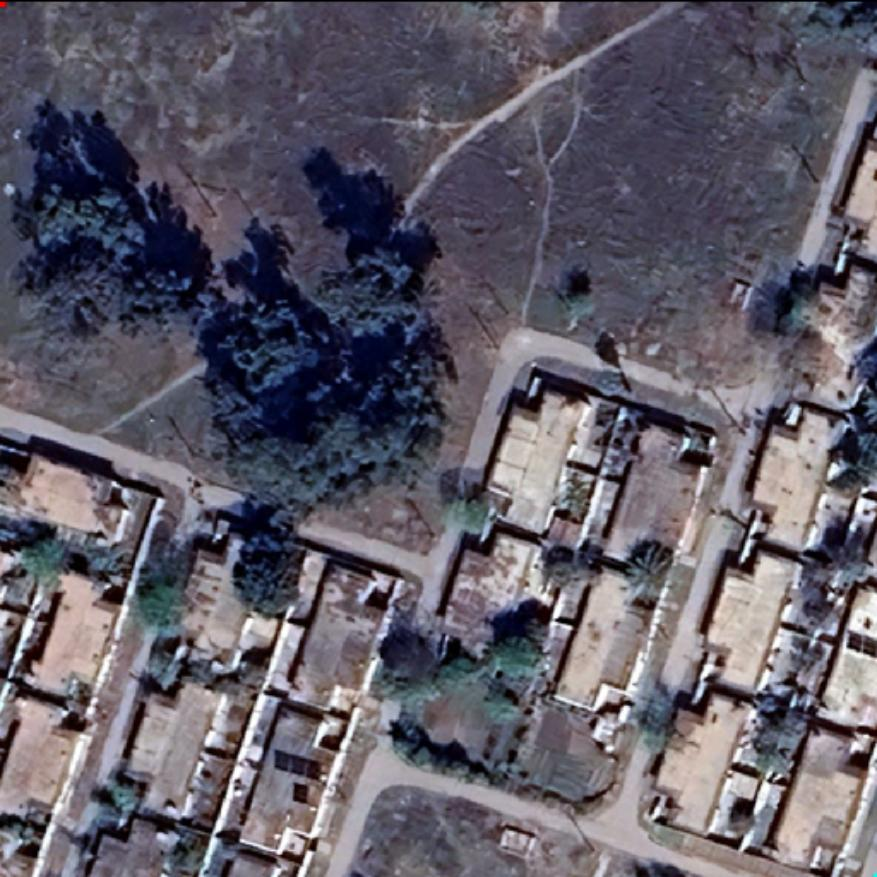Solarpanel: (269, 744, 325, 782), (843, 627, 877, 660), (290, 779, 312, 807)
